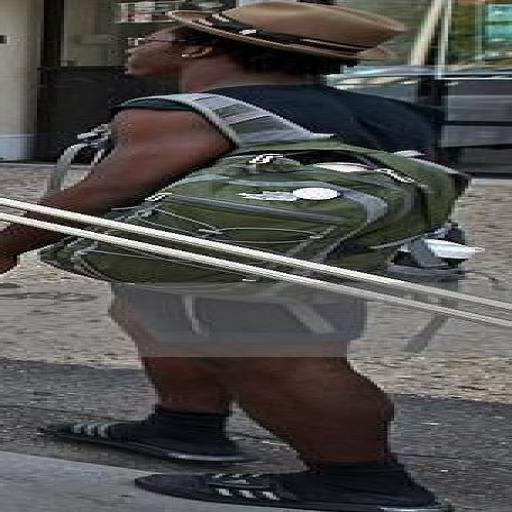person: (48, 287, 451, 511)
